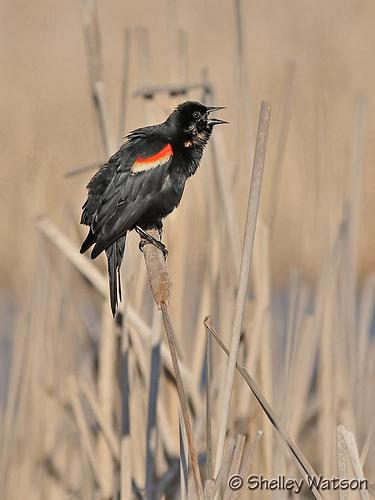010.Red_winged_Blackbird: (79, 98, 230, 317)
